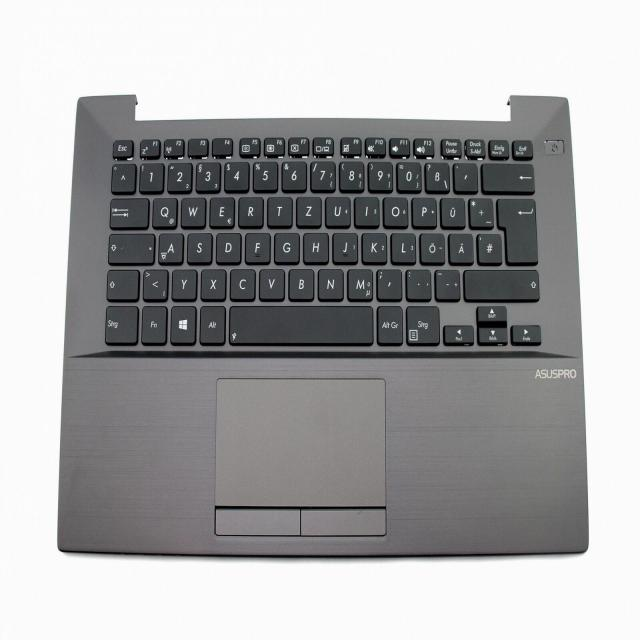0: (395, 159, 421, 191)
1: (139, 161, 164, 192)
2: (166, 160, 192, 191)
3: (194, 159, 220, 191)
4: (223, 159, 249, 191)
5: (251, 159, 278, 190)
6: (280, 159, 306, 190)
7: (309, 159, 335, 190)
8: (338, 159, 365, 191)
9: (366, 159, 393, 191)
a: (157, 231, 183, 264)
accent: (452, 161, 478, 192)
ae: (448, 231, 474, 263)
alt-left: (199, 304, 226, 345)
altgr-right: (375, 303, 403, 344)
b: (287, 267, 314, 299)
c: (229, 267, 256, 299)
caret: (110, 161, 135, 192)
comma: (375, 267, 401, 299)
d: (215, 231, 242, 264)
del: (480, 161, 534, 192)
e: (208, 195, 235, 227)
enter: (496, 195, 537, 263)
f: (244, 230, 270, 263)
g: (273, 231, 300, 263)
h: (303, 230, 329, 263)
hash: (475, 231, 502, 263)
i: (353, 194, 380, 226)
j: (332, 230, 358, 263)
k: (360, 230, 387, 263)
keyboard: (95, 125, 557, 359)
l: (390, 230, 416, 263)
less: (142, 267, 168, 300)
m: (346, 267, 374, 300)
minus: (433, 268, 460, 299)
n: (317, 267, 344, 300)
o: (382, 194, 408, 227)
oe: (419, 231, 445, 264)
p: (411, 195, 436, 227)
plus: (467, 195, 493, 227)
point: (404, 267, 431, 299)
q: (151, 195, 178, 227)
r: (237, 194, 263, 227)
s: (186, 231, 212, 263)
shift-left: (105, 267, 139, 300)
shift-lock: (106, 231, 155, 263)
shift-right: (462, 267, 539, 300)
space: (228, 303, 372, 345)
ss: (424, 160, 449, 191)
strg-left: (102, 302, 138, 344)
strg-right: (404, 302, 440, 345)
t: (266, 194, 292, 226)
tab: (108, 195, 148, 228)
u: (324, 194, 351, 227)
ue: (439, 196, 465, 227)
v: (258, 267, 285, 299)
w: (180, 195, 206, 226)
x: (199, 267, 226, 299)
y: (171, 267, 197, 300)
z: (295, 194, 321, 226)
